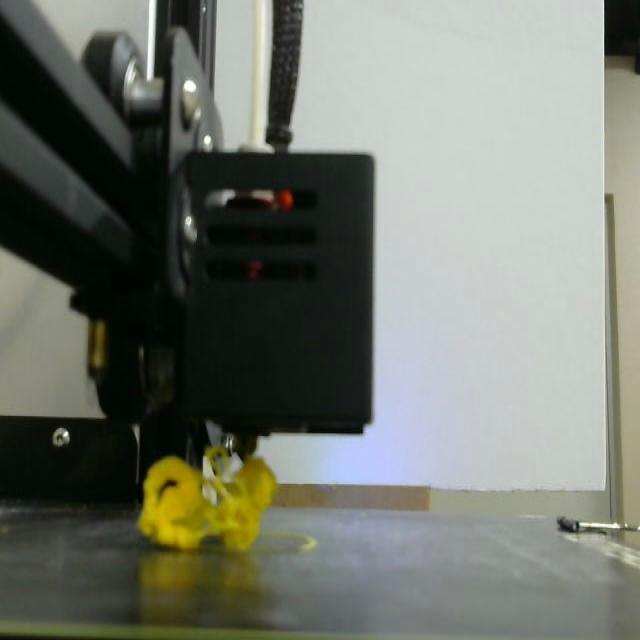spaghetti: (135, 443, 288, 557)
